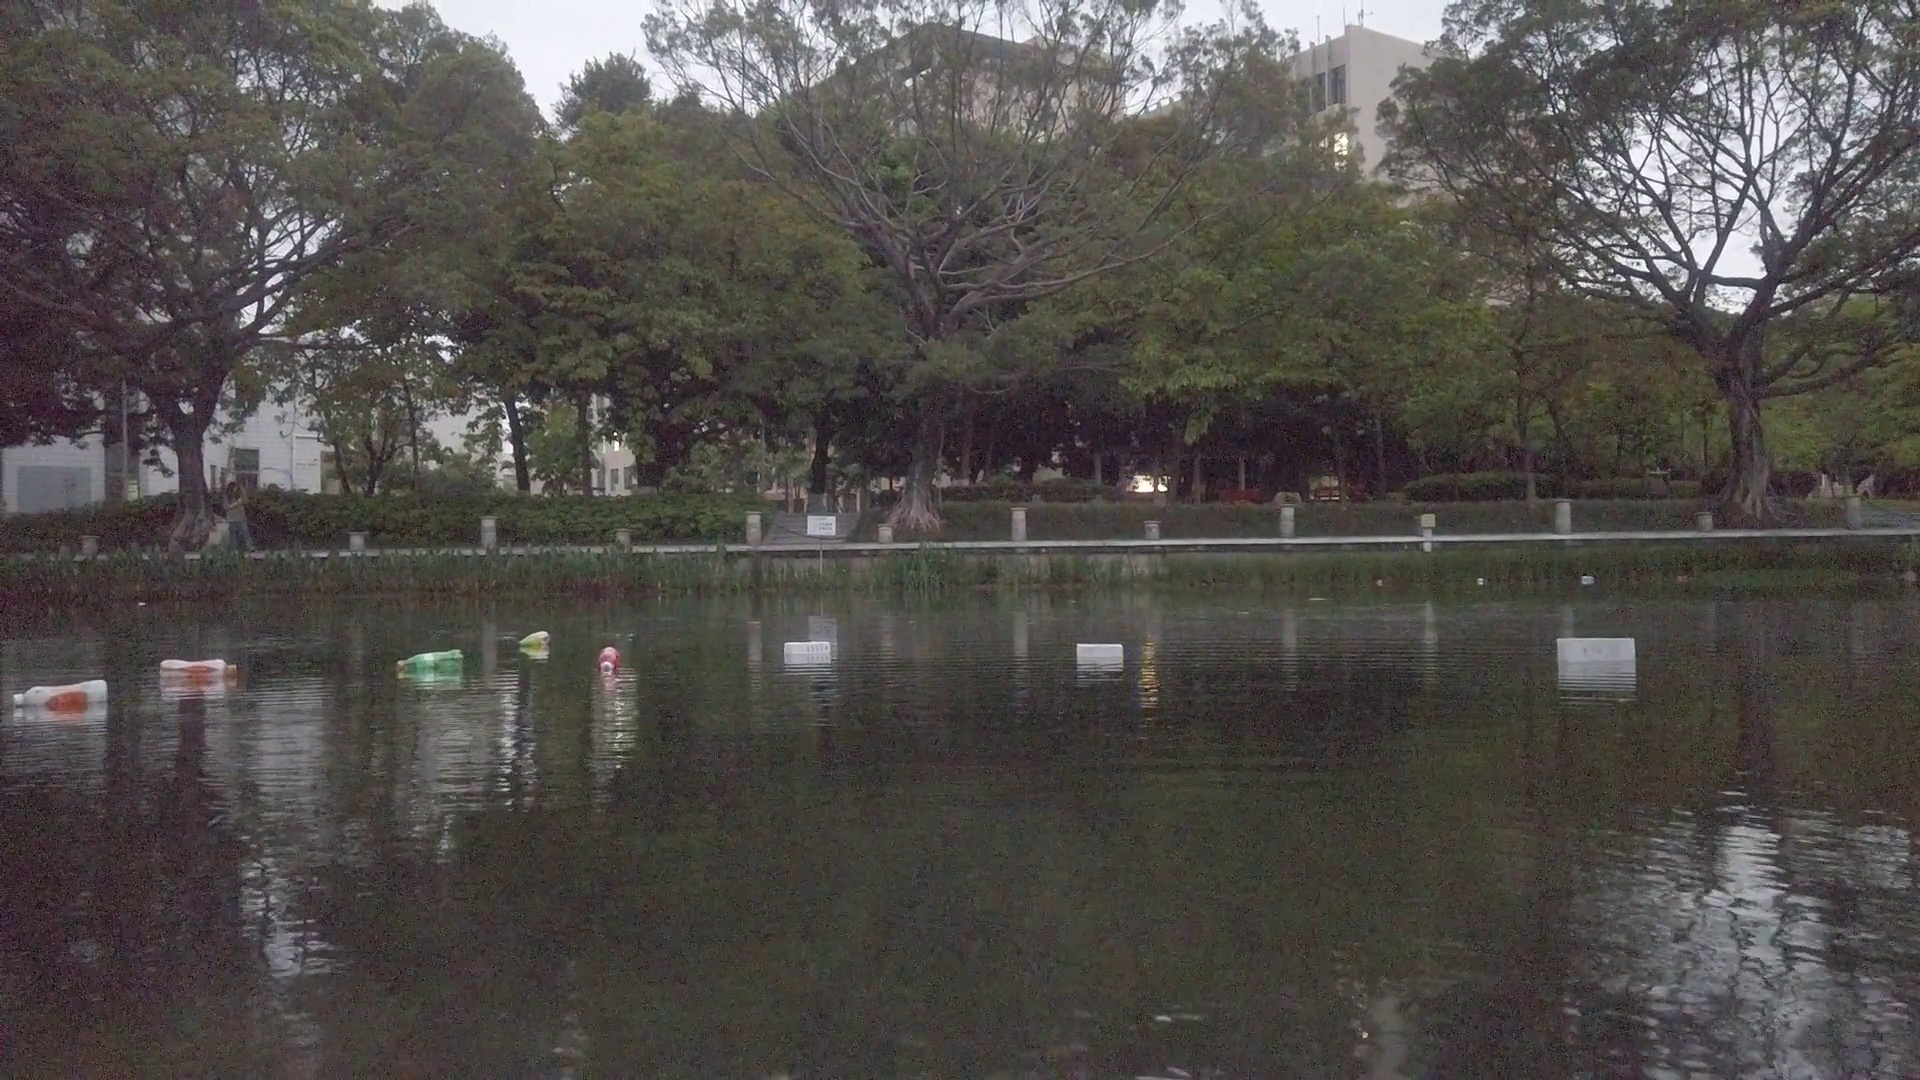bottle: (13, 680, 108, 709), (396, 647, 465, 673), (160, 657, 239, 676), (596, 646, 622, 675), (517, 630, 550, 646)
carton: (1555, 638, 1640, 665), (1076, 641, 1124, 665), (783, 641, 831, 658), (1581, 574, 1596, 583)
